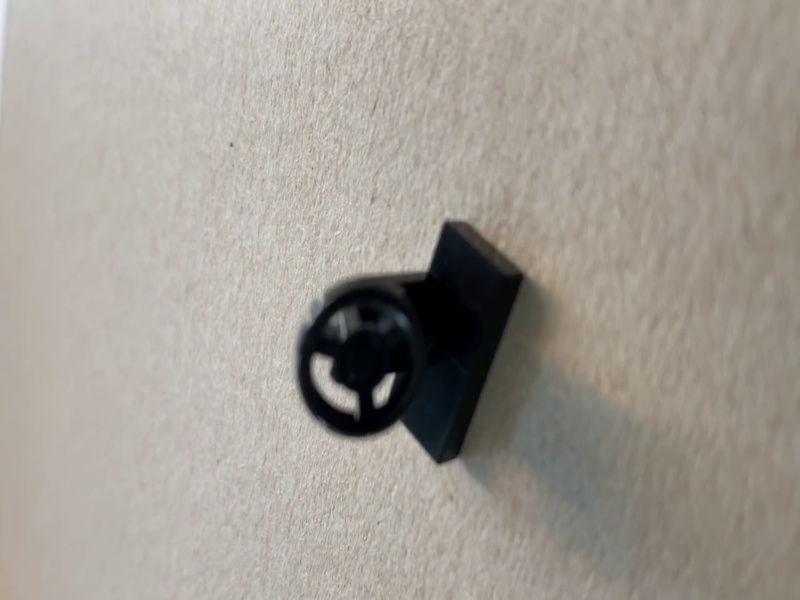steering wheel: (297, 218, 528, 474)
